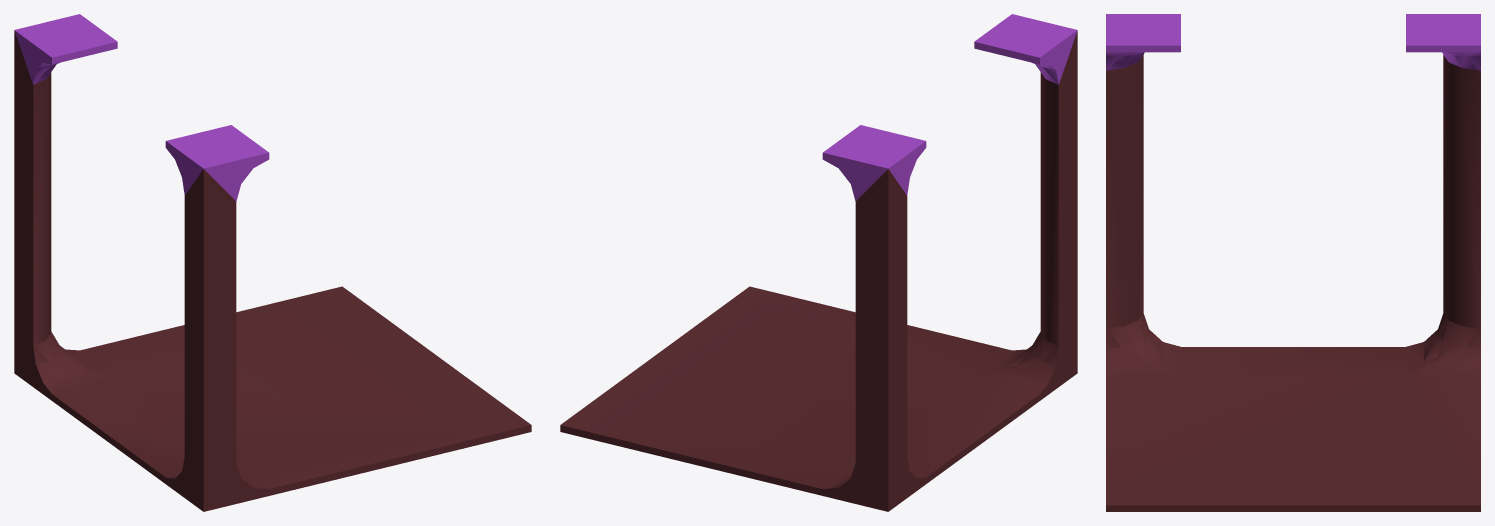
File: Tileset_95.fbx
3 views of the same model, side by side, from view 1: azimuth 30°, elevation 25°; view 2: azimuth 150°, elevation 25°; view 3: azimuth 270°, elevation 25° (orthographic).
Visible parts, largest first — view 1: Tileset_95; view 2: Tileset_95; view 3: Tileset_95.
Boxes of the visible parts, x1=… form: Tileset_95: x1=14, y1=14, x2=531, y2=511; Tileset_95: x1=560, y1=14, x2=1077, y2=511; Tileset_95: x1=1106, y1=14, x2=1480, y2=511.
Size of the model in its own units: 100 by 100 by 100.
